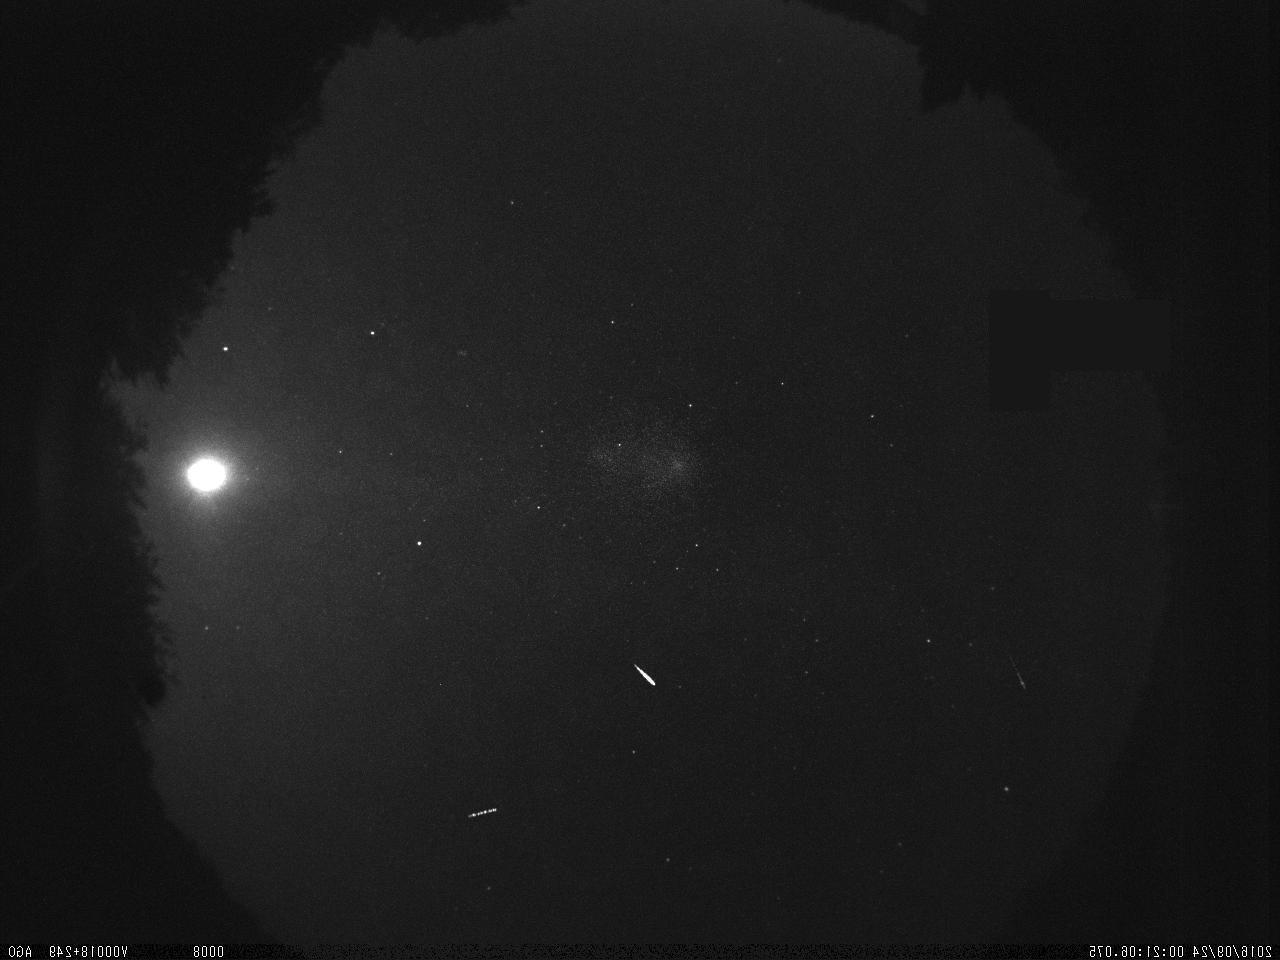meteor: (625, 654, 664, 697)
satelite: (463, 795, 507, 832)
